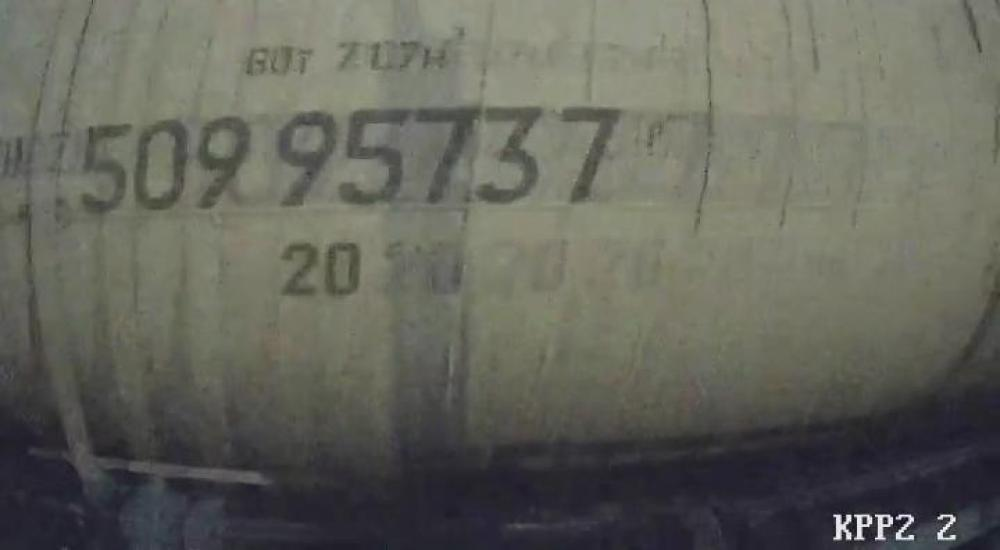Wagon-number: (66, 97, 628, 218)
